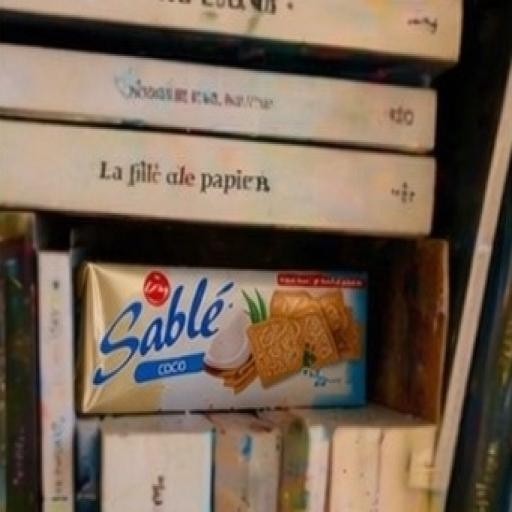sable: (10, 155, 415, 456)
